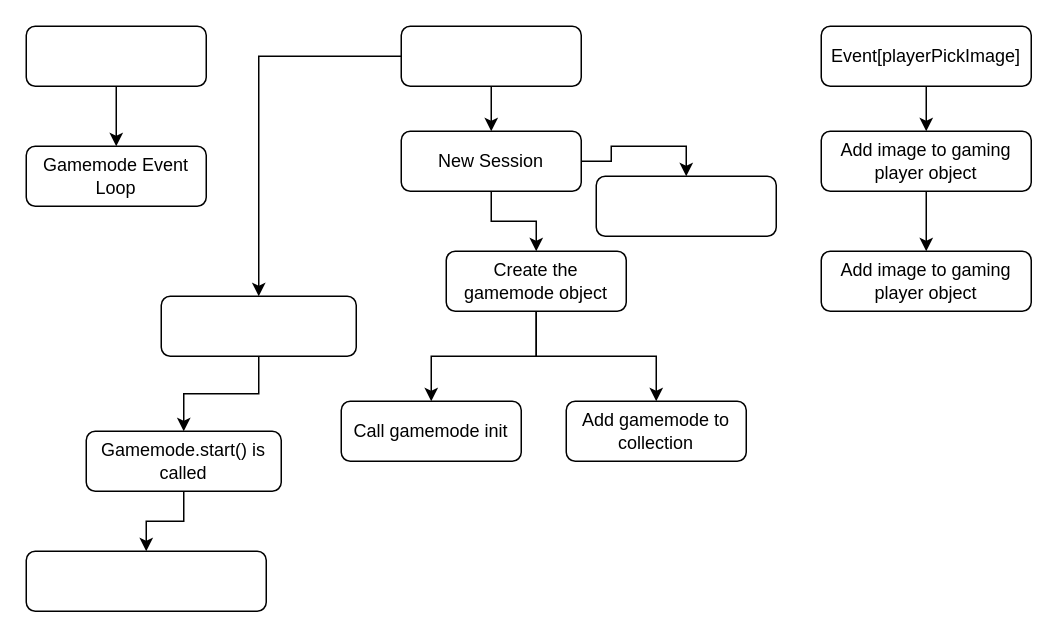
Image size: 1058x638. Some labels were removed from this diagram. The centre of each missing label's shape, as x and y in pixels:
60 second timer ends: pixel 258 325
Add players from room into session: pixel 685 205
Each player is navigated to the game page: pixel 145 580
Event[initGame]: pixel 490 55
Event[startGame]: pixel 115 55
